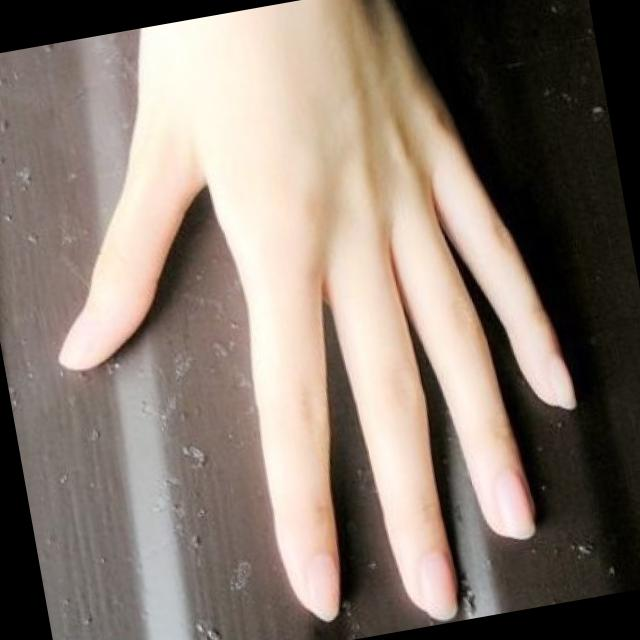Nail: (415, 549, 456, 619), (494, 468, 531, 538), (301, 550, 337, 619), (56, 313, 96, 368), (542, 352, 574, 410)
